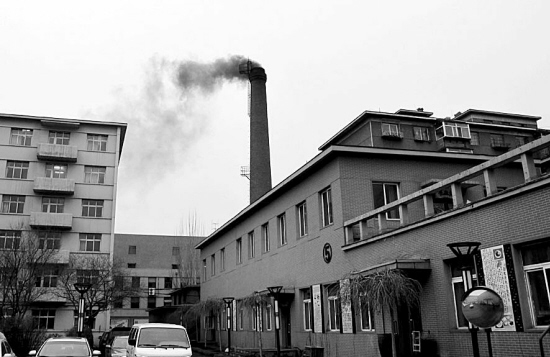dust: (161, 44, 268, 86)
